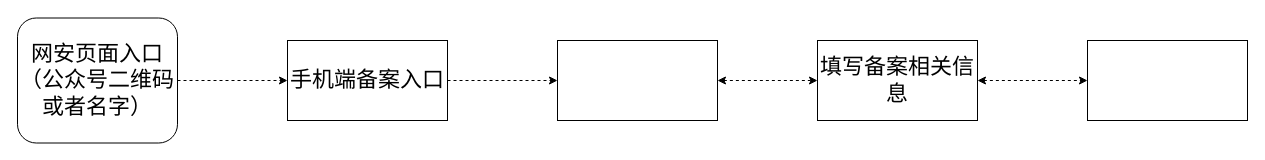
Image size: 1265x160. Some labels were removed from this diagram. Here are the shapes that lost their labels. From the top down, the centre of each, then its label:
the point at 637,80: 备案用户注册，绑定微信
the point at 1167,80: 备案审批
